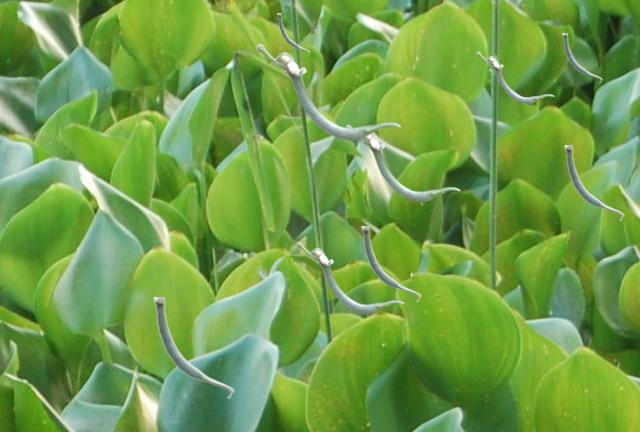french_bean: (256, 43, 400, 144), (345, 124, 459, 204), (153, 297, 233, 398), (296, 241, 403, 316), (361, 226, 420, 301), (564, 145, 623, 220), (476, 51, 553, 105), (562, 33, 601, 82), (277, 13, 309, 54)
